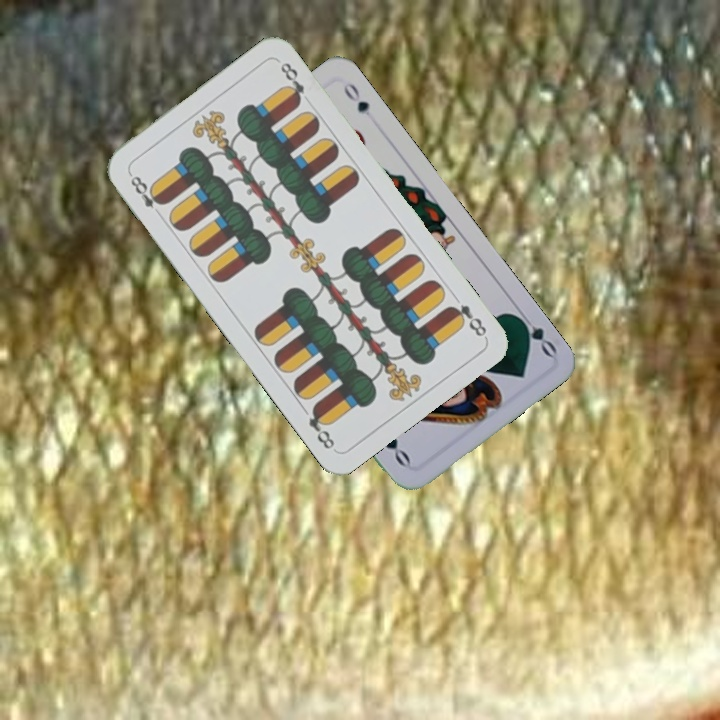E8: (444, 300, 490, 340), (125, 169, 168, 211)
GO: (511, 307, 560, 360)
